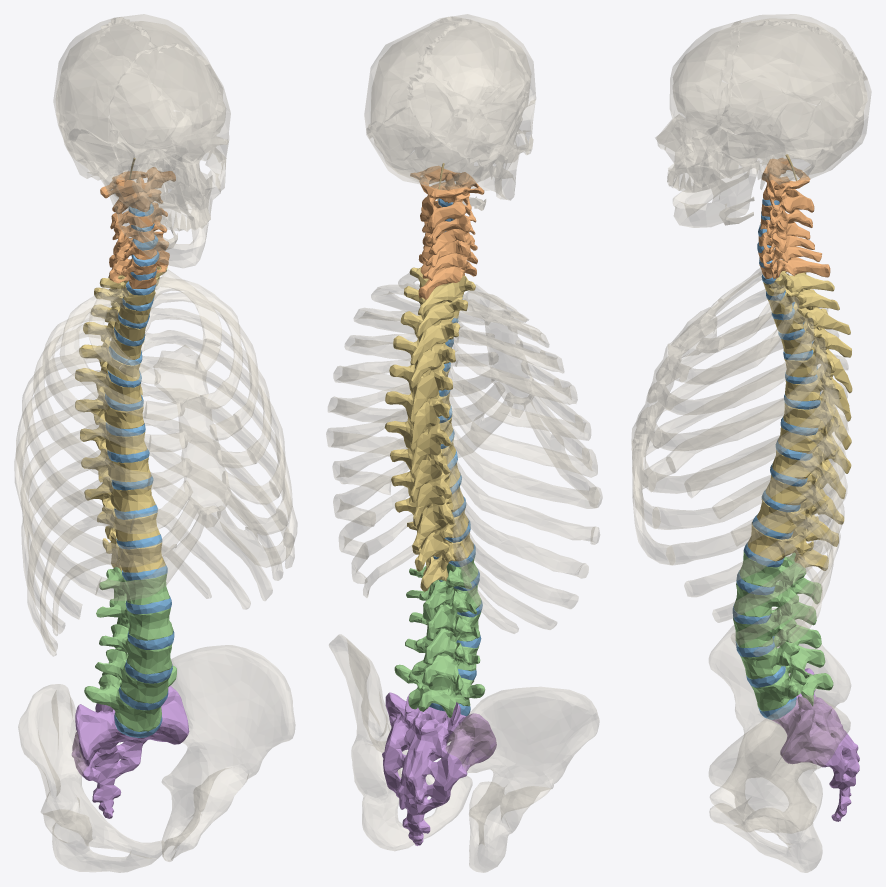
File: spine.glb
3 renders of one model, left to right at view 1: azimuth 30°, elevation 25°; view 2: azimuth 150°, elevation 25°; view 3: azimuth 270°, elevation 25°, orthographic. The views are drawn at different scales.
Parts seen in each view (by area): view 1: ribs, skull, pelvis, thoracic, lumbar, discs, sacrum, cervical; view 2: ribs, skull, pelvis, thoracic, sacrum, lumbar, cervical, discs; view 3: ribs, skull, pelvis, thoracic, lumbar, cervical, discs, sacrum.
Part boxes in pixels (x1,y1,x2,y2): ribs: (14,269,297,656); skull: (53,14,230,267); pelvis: (18,645,295,872); thoracic: (75,266,167,572); lumbar: (84,567,176,731); discs: (104,203,174,737); sacrum: (71,685,189,818); cervical: (100,167,175,288); ribs: (326,273,602,633); skull: (364,14,535,210); pelvis: (329,634,599,872); thoracic: (384,267,475,591); sacrum: (382,692,496,845); lumbar: (394,557,485,717); cervical: (410,166,484,299); discs: (429,198,482,716); ribs: (631,259,848,655); skull: (655,14,871,227); pelvis: (709,608,850,872); thoracic: (747,259,852,570); lumbar: (733,551,833,711); cervical: (758,158,830,278); discs: (732,198,820,719); sacrum: (772,668,859,821).
Bounding box in the file's own units: 0.2892 × 0.8841 × 0.2325.
